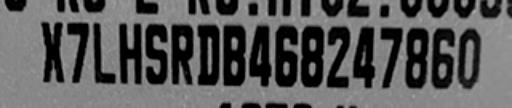letter: (36, 21, 68, 81), (456, 27, 486, 89), (194, 22, 222, 88), (114, 20, 142, 84), (90, 22, 118, 86), (142, 22, 170, 86), (220, 23, 248, 87), (430, 27, 458, 91), (246, 25, 274, 87), (299, 25, 327, 87), (324, 25, 352, 87), (350, 25, 378, 87), (170, 22, 196, 88), (378, 26, 404, 92), (272, 23, 298, 87), (404, 25, 430, 85), (65, 20, 87, 82)
